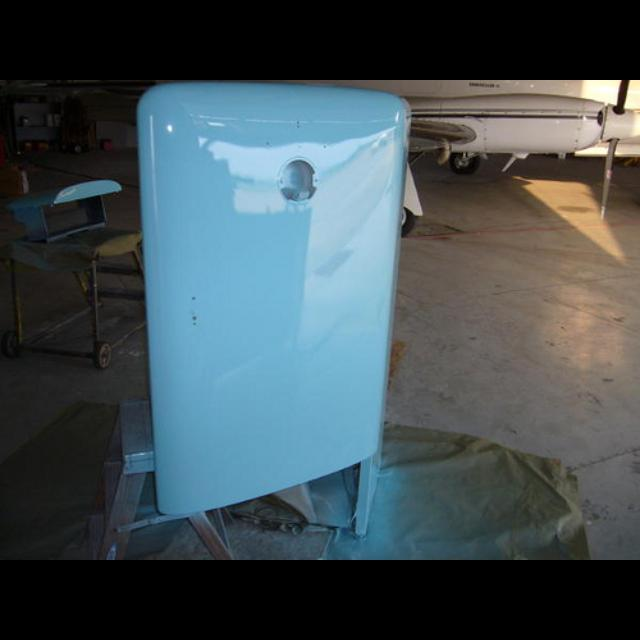Refrigerator: (137, 83, 411, 516)
